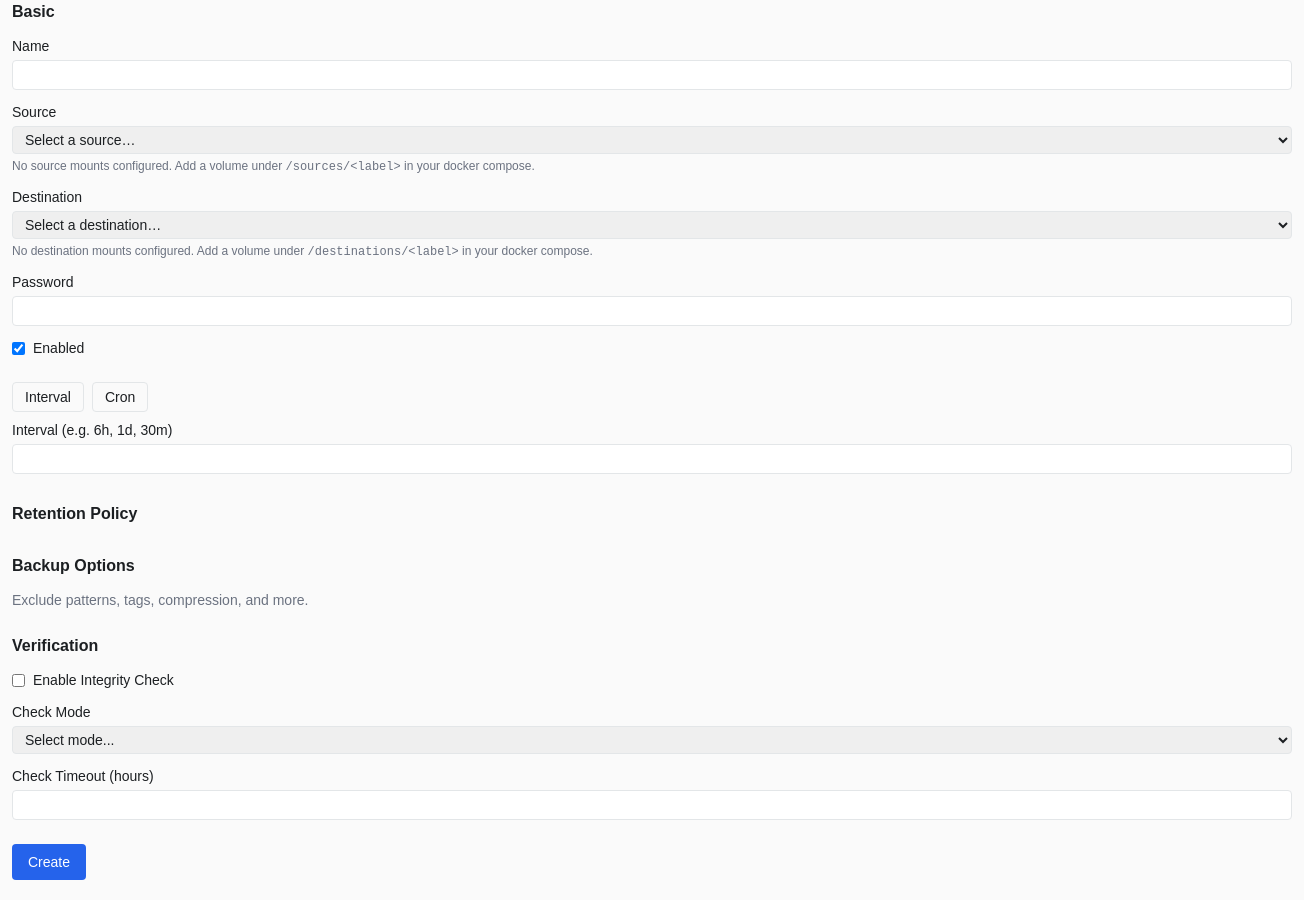
Test case: JobForm › check_enabled validation › requires check_subset_percent when check_mode is subset
Step 1. Click the checkbox labelled "Enable Integrity Check" → (18, 680), box [12,674,25,686]
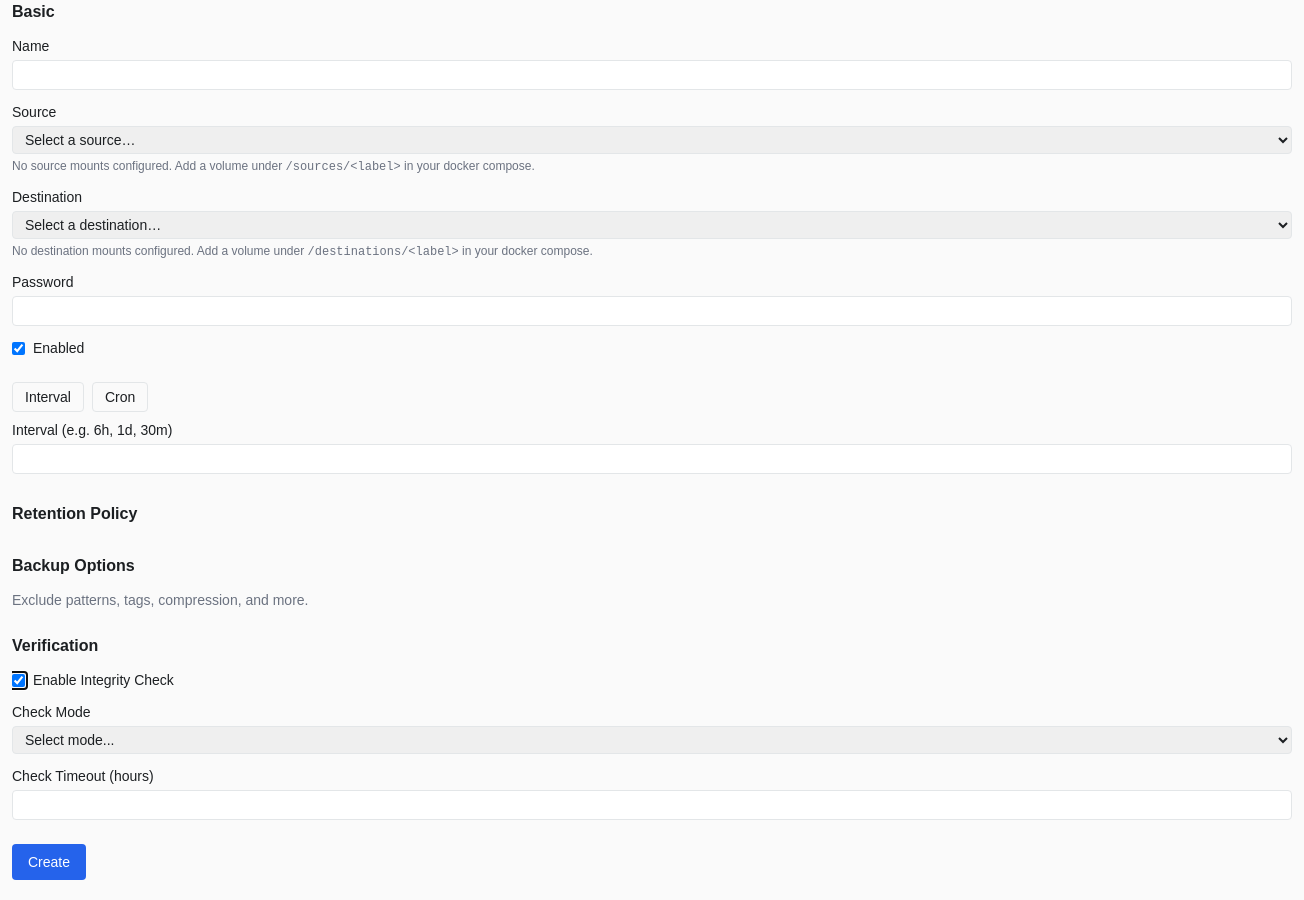
Step 2. Select "Subset" in the dropdown labelled "Check Mode" → (652, 740), box [12,726,1292,754]
(page scrolled)
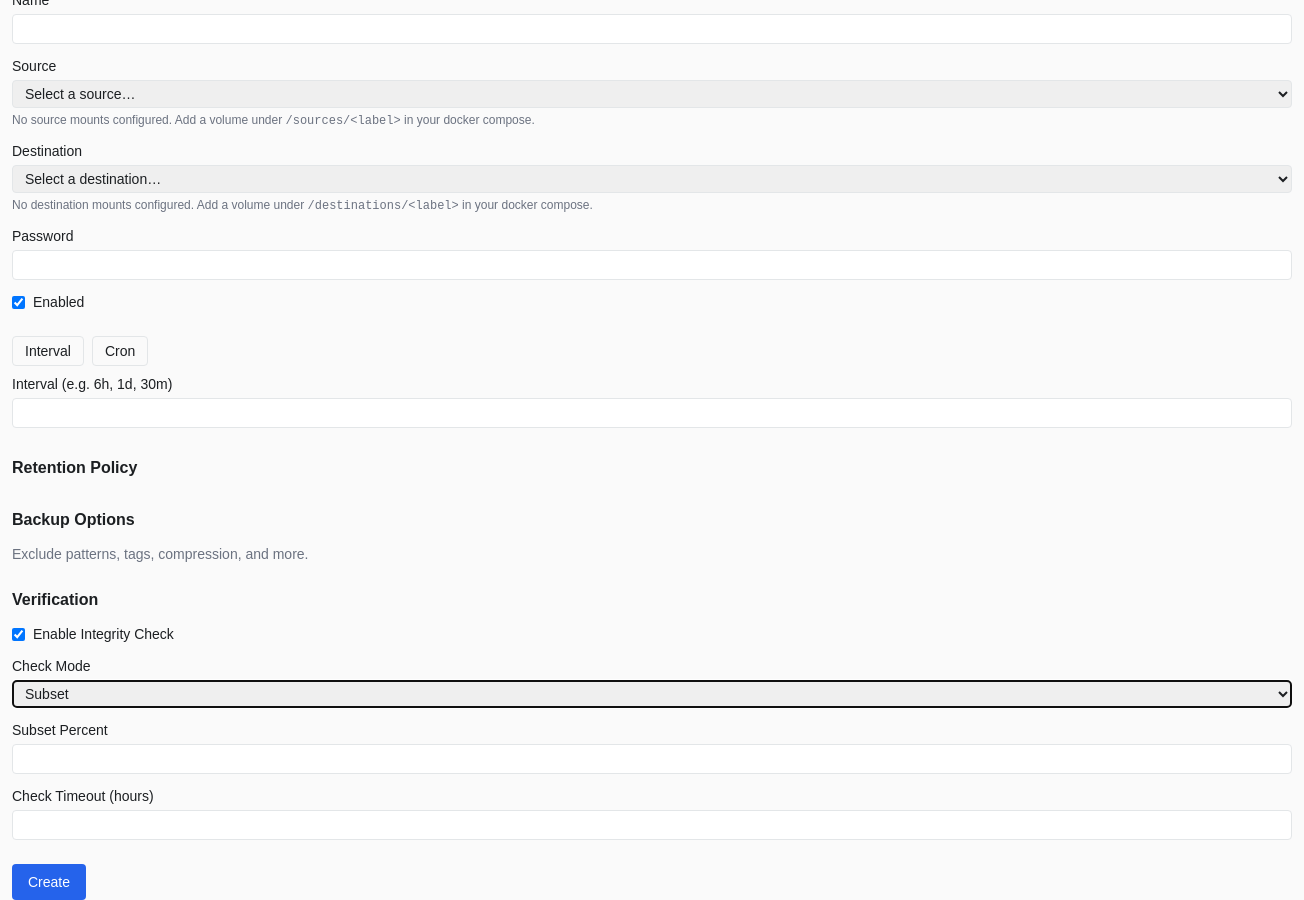
Step 3. Click the button "Create" → (49, 882), box [12,864,86,899]
(page scrolled)
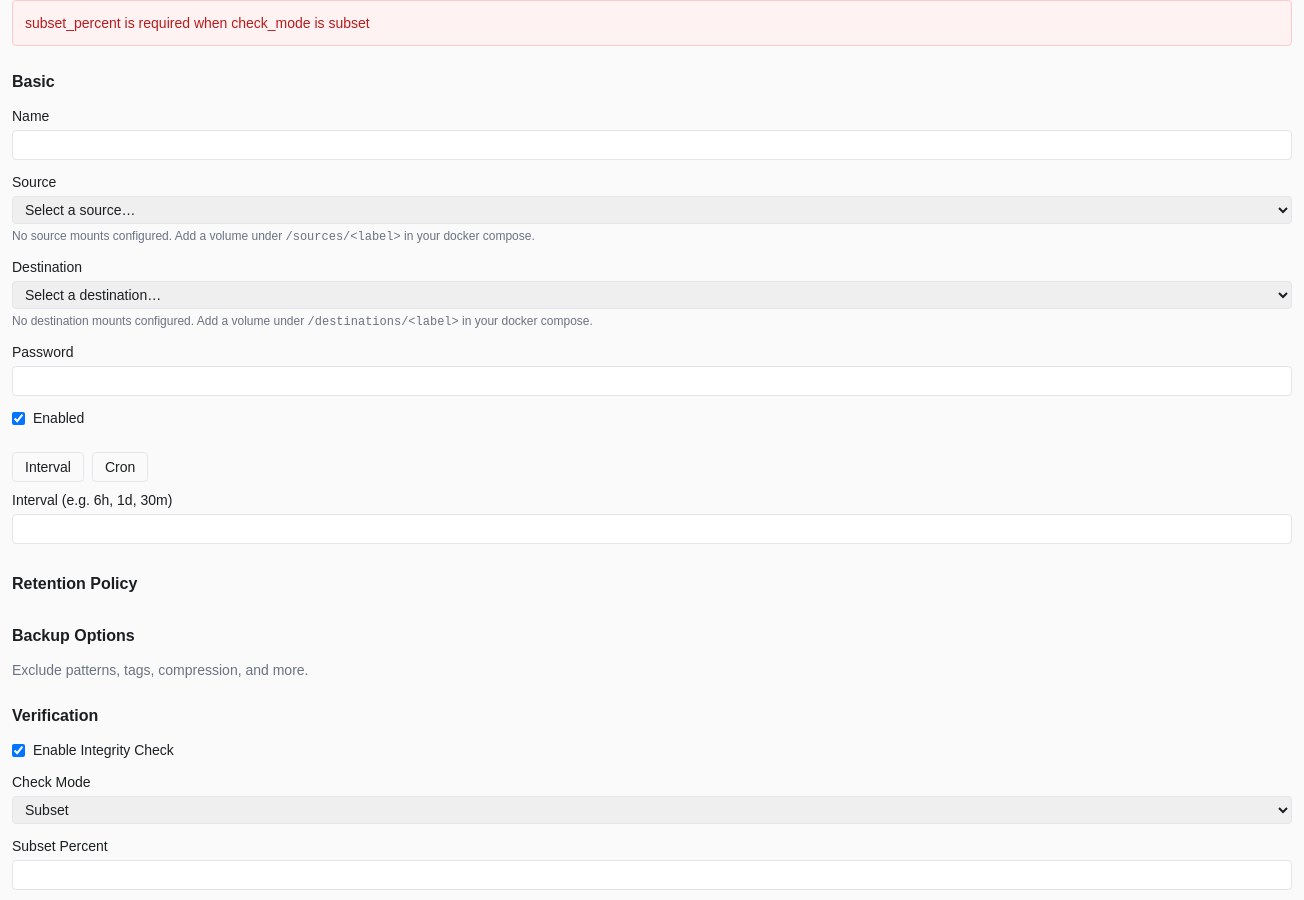
Expected: the text "subset_percent is required when check_mode is subset" is shown, [12,0,1292,46]
